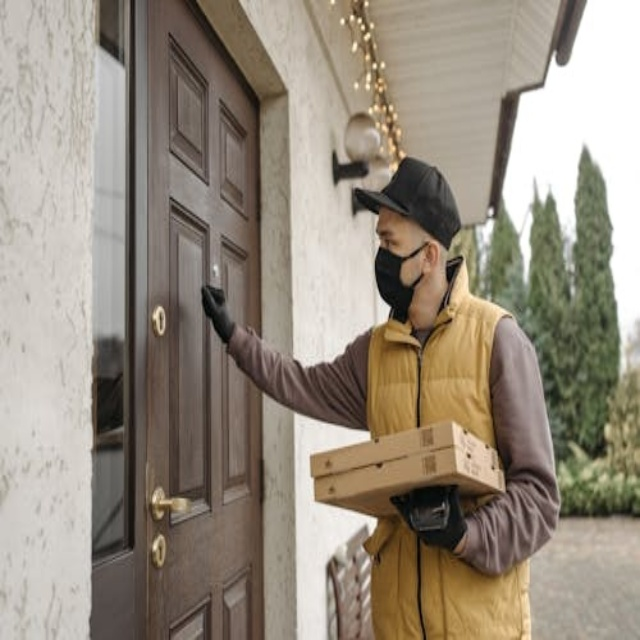Guantes: (391, 484, 468, 553), (202, 283, 235, 346)
Mascara: (374, 242, 427, 318)
Sin_gafas: (374, 217, 404, 245)
